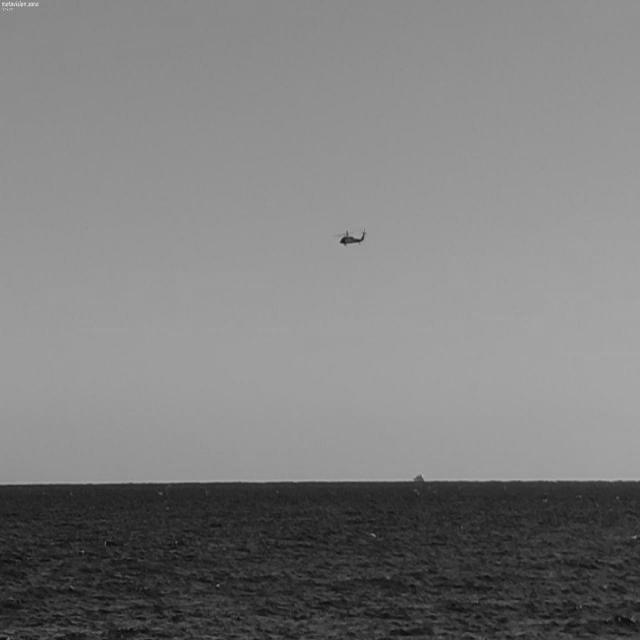helikopter: (303, 205, 397, 286)
